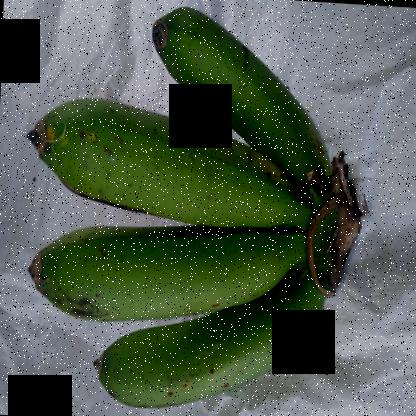rotten: (66, 276, 113, 346)
unripe: (20, 97, 304, 222), (101, 278, 338, 415), (21, 222, 303, 328), (158, 12, 336, 179)
